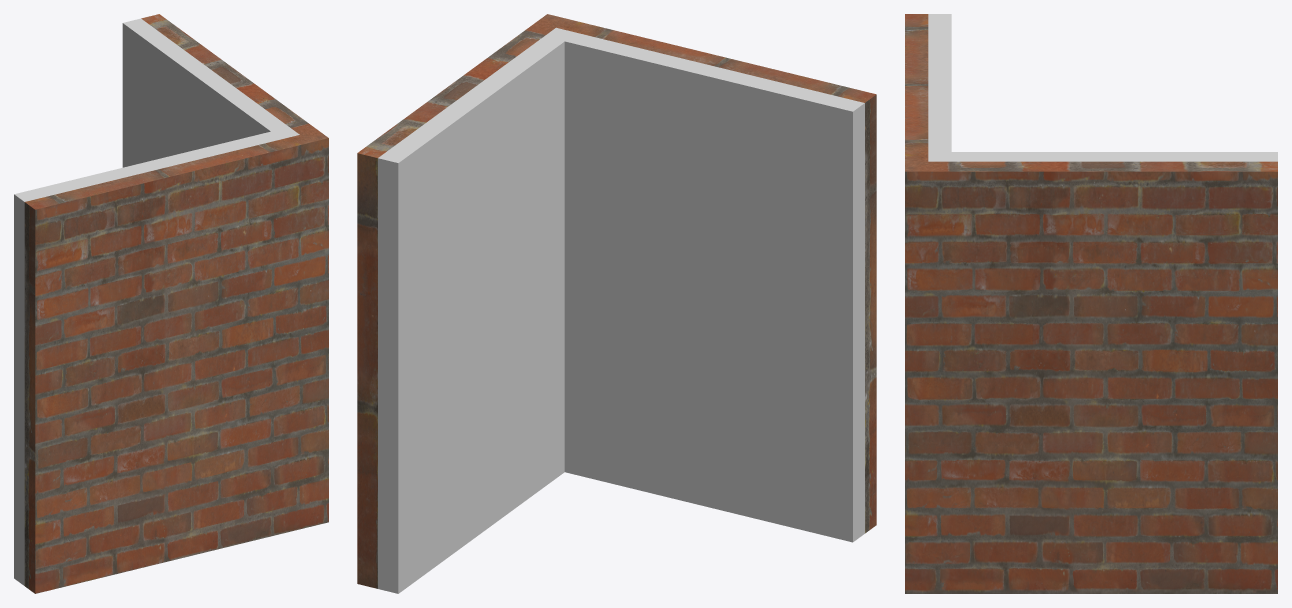
Rendered from Corner_Wall.fbx.
3 renders of one model, left to right at view 1: azimuth 30°, elevation 25°; view 2: azimuth 150°, elevation 25°; view 3: azimuth 270°, elevation 25°, orthographic. The views are drawn at different scales.
Parts seen in each view (by area): view 1: Corner Wall; view 2: Corner Wall; view 3: Corner Wall.
Part boxes in pixels (x1=…): Corner Wall: x1=14, y1=14, x2=328, y2=593; Corner Wall: x1=357, y1=14, x2=876, y2=593; Corner Wall: x1=905, y1=14, x2=1277, y2=593.
Bounding box in the file's own units: 400 × 500 × 400.
